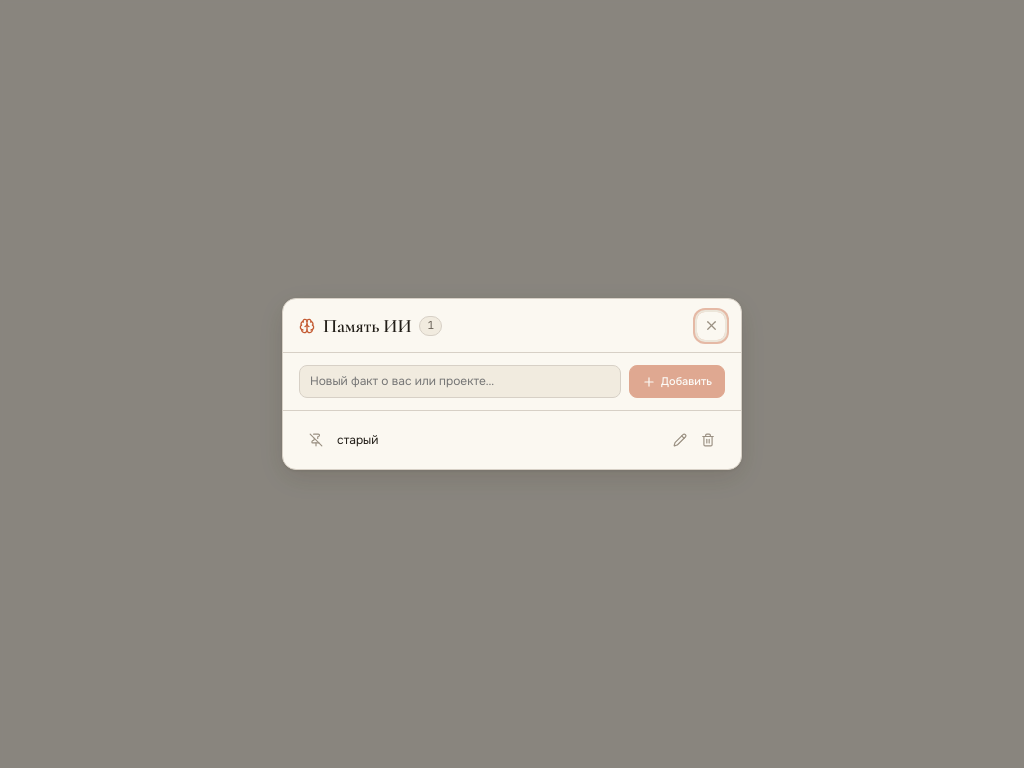
Test: MemoryPanel (MEM-4, AC-MEM-7) › Escape во время правки отменяет правку, НЕ закрывая панель (focus-trap не срабатывает)
Click the button named "изменить" at (680, 440), box [667, 427, 693, 453]
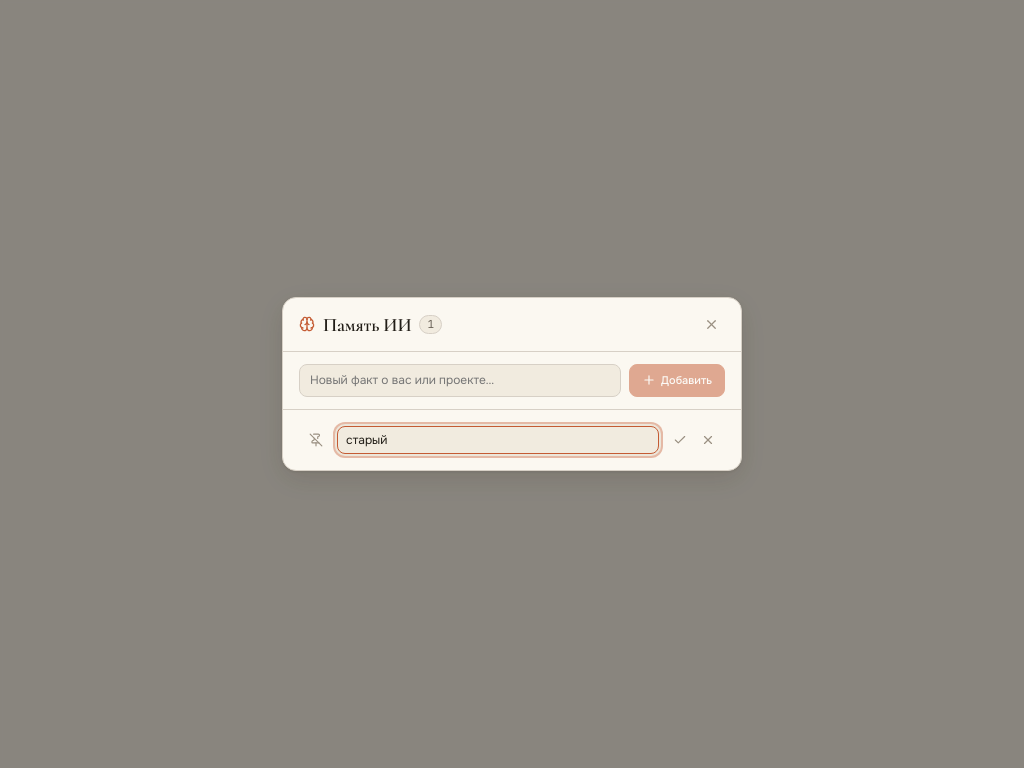
Press Escape in the field named "текст факта", box [337, 426, 659, 454]
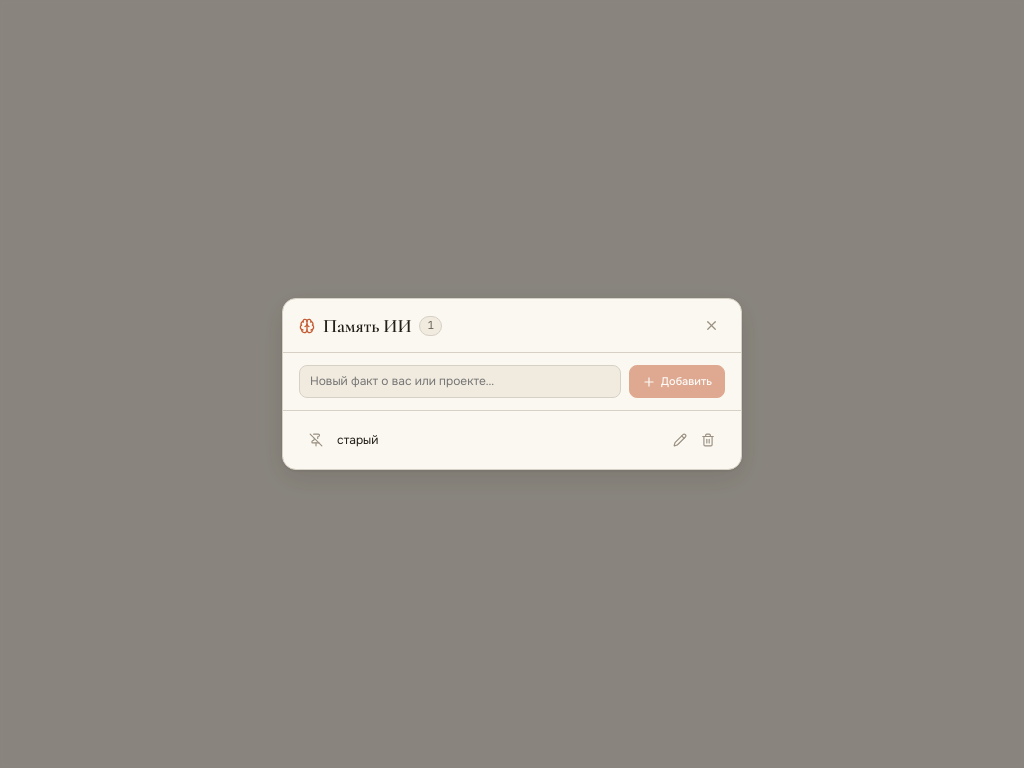
expect the text "старый" is shown: met, box [337, 432, 378, 448]
